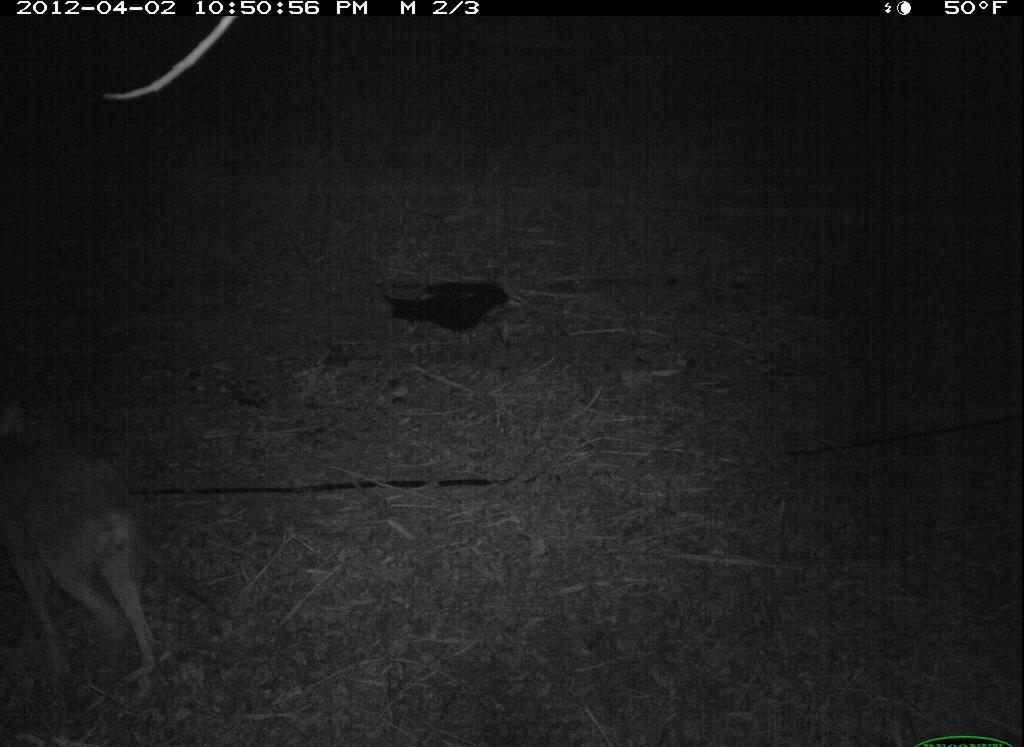coyote: (2, 405, 166, 696)
